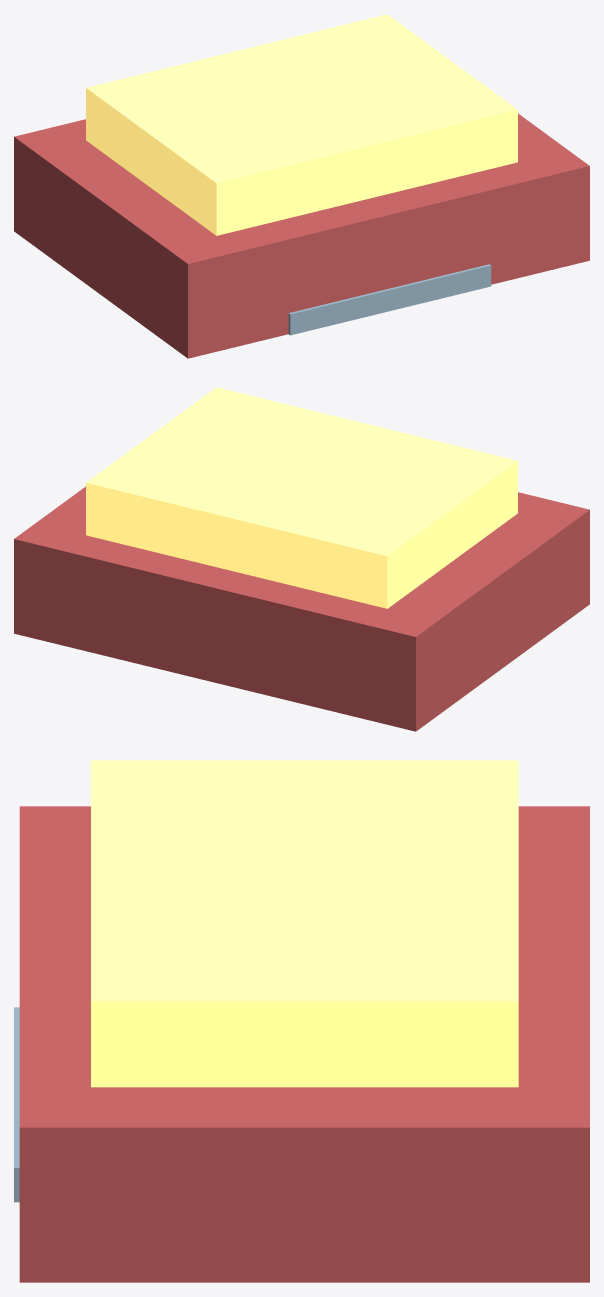
Rendered from casino.glb.
3 views of the same model, one above another, from view 1: azimuth 30°, elevation 25°; view 2: azimuth 150°, elevation 25°; view 3: azimuth 270°, elevation 25° (orthographic). The views are drawn at different scales.
Visible parts, largest first — view 1: Cube, Cube.001, Cube.002; view 2: Cube, Cube.001; view 3: Cube, Cube.001, Cube.002.
Part boxes in pixels (left/top/right/bottom): Cube: left=14, top=113, right=589, bottom=358; Cube.001: left=86, top=14, right=517, bottom=235; Cube.002: left=288, top=264, right=491, bottom=335; Cube: left=14, top=486, right=589, bottom=731; Cube.001: left=86, top=387, right=517, bottom=608; Cube: left=19, top=806, right=589, bottom=1282; Cube.001: left=91, top=760, right=518, bottom=1087; Cube.002: left=14, top=1007, right=19, bottom=1202.
Bounding box in the file's own units: 40 × 14 × 30.3.
